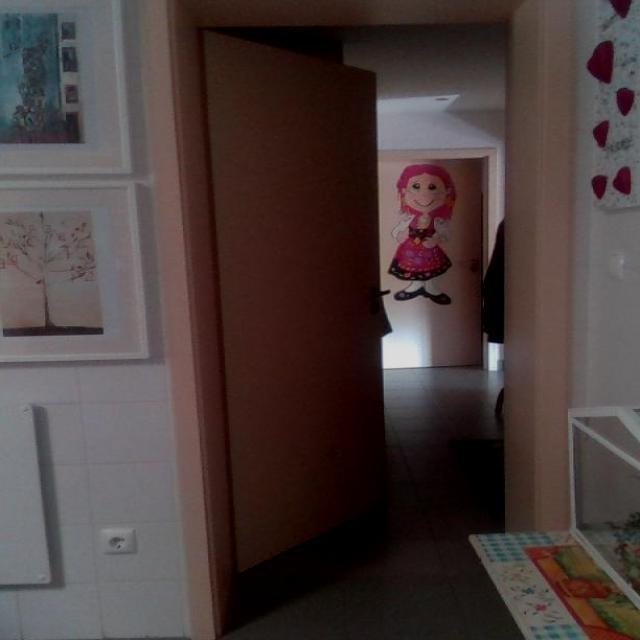door: (198, 27, 388, 574)
